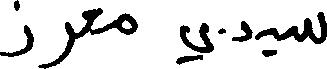X: (0, 0, 32, 61), (179, 18, 211, 68), (41, 17, 72, 68), (295, 7, 326, 48), (84, 3, 100, 39), (119, 8, 136, 39), (234, 16, 248, 46), (264, 23, 274, 61)
